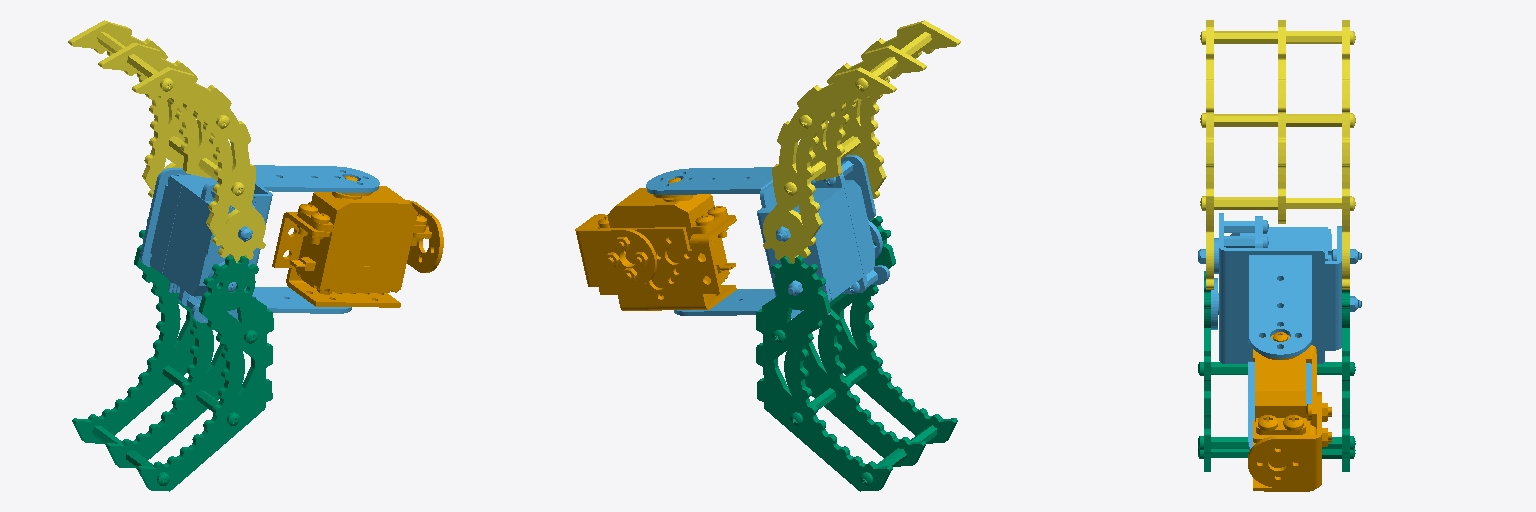
URDF robot description (robot_arm):
<?xml version='1.0' encoding='utf-8'?>
<robot name="robot_arm">
    <link name="arm_servo">
        <inertial>
            <origin xyz="-0.00520521192565182 0.01111926696798689 0.026115517882718323" rpy="0.0 -0.0 -1.3552527156068805e-20" />
            <mass value="0.3408048932817414" />
            <inertia ixx="0.00011993359739119503" iyy="7.024887882209169e-05" izz="8.655825815887205e-05" ixy="-3.309132080748022e-06" iyz="-1.9472936187881763e-06" ixz="7.298408347366714e-06" />
        </inertial>
        <visual name="arm_servo_visual">
            <origin xyz="0.0030139935324325065 0.009914743119193346 0.02727695015411946" rpy="3.139716897189504 1.301820786777512 -0.001812476256788611" />
            <geometry>
                <mesh filename="package://mastering_ros_robot_description_pkg/meshes/arm_servo.stl" scale="0.001 0.001 0.001" />
            </geometry>
        </visual>
        <collision name="arm_servo_collision">
            <origin xyz="0.0030139935324325065 0.009914743119193346 0.02727695015411946" rpy="3.139716897189504 1.301820786777512 -0.001812476256788611" />
            <geometry>
                <mesh filename="package://mastering_ros_robot_description_pkg/meshes/arm_servo.stl" scale="0.001 0.001 0.001" />
            </geometry>
        </collision>
    </link>
    <link name="craw_servo">
        <inertial>
            <origin xyz="0.009444604838704768 0.026285755863166095 0.008589752272914312" rpy="0.0 0.0 0.0" />
            <mass value="0.41080190821281926" />
            <inertia ixx="0.0001679426909527112" iyy="0.00020289327856063224" izz="0.00017534608932282878" ixy="-1.1289757719020539e-06" iyz="1.2103504651081886e-06" ixz="3.2419682804361014e-06" />
        </inertial>
        <visual name="craw_servo_visual">
            <origin xyz="0.0 0.0 0.0" rpy="0.0 0.0 0.0" />
            <geometry>
                <mesh filename="package://mastering_ros_robot_description_pkg/meshes/craw_servo.stl" scale="0.001 0.001 0.001" />
            </geometry>
        </visual>
        <collision name="craw_servo_collision">
            <origin xyz="0.0 0.0 0.0" rpy="0.0 0.0 0.0" />
            <geometry>
                <mesh filename="package://mastering_ros_robot_description_pkg/meshes/craw_servo.stl" scale="0.001 0.001 0.001" />
            </geometry>
        </collision>
    </link>
    <link name="craw2">
        <inertial>
            <origin xyz="-0.024981792043481922 0.01714963347253345 -0.03984953908574084" rpy="0.0 -0.0 0.0" />
            <mass value="0.14361180492178632" />
            <inertia ixx="0.0001339378063570633" iyy="0.00019038338694415784" izz="9.559028145015788e-05" ixy="1.006294335493931e-06" iyz="7.655613038930024e-06" ixz="1.233772048752626e-06" />
        </inertial>
        <visual name="craw2_visual">
            <origin xyz="-0.05570077229633004 0.027913294729427385 -0.05388566987136335" rpy="-2.1133992857034114 1.1995612836379621e-15 -0.025712251195341373" />
            <geometry>
                <mesh filename="package://mastering_ros_robot_description_pkg/meshes/craw2.stl" scale="0.001 0.001 0.001" />
            </geometry>
        </visual>
        <collision name="craw2_collision">
            <origin xyz="-0.05570077229633004 0.027913294729427385 -0.05388566987136335" rpy="-2.1133992857034114 1.1995612836379621e-15 -0.025712251195341373" />
            <geometry>
                <mesh filename="package://mastering_ros_robot_description_pkg/meshes/craw2.stl" scale="0.001 0.001 0.001" />
            </geometry>
        </collision>
    </link>
    <link name="craw1">
        <inertial>
            <origin xyz="0.024441565369785926 -0.00913097522316754 -0.04158637789819494" rpy="1.232595164407831e-32 -0.0 0.0" />
            <mass value="0.11972753556642697" />
            <inertia ixx="0.00010894945703551932" iyy="0.00016130262606403123" izz="6.756987996610689e-05" ixy="1.230357730894895e-06" iyz="-8.22047073541567e-06" ixz="-6.21735722582825e-07" />
        </inertial>
        <visual name="craw1_visual">
            <origin xyz="0.055278168123723326 -0.0054493529404387436 -0.08537684506545302" rpy="0.01900418331021532 -1.2189146982117131e-15 3.115880402394452" />
            <geometry>
                <mesh filename="package://mastering_ros_robot_description_pkg/meshes/craw1.stl" scale="0.001 0.001 0.001" />
            </geometry>
        </visual>
        <collision name="craw1_collision">
            <origin xyz="0.055278168123723326 -0.0054493529404387436 -0.08537684506545302" rpy="0.01900418331021532 -1.2189146982117131e-15 3.115880402394452" />
            <geometry>
                <mesh filename="package://mastering_ros_robot_description_pkg/meshes/craw1.stl" scale="0.001 0.001 0.001" />
            </geometry>
        </collision>
    </link>
    <joint name="craw_servo_arm_rotate" type="continuous">
        <origin xyz="0.07370177203355258 0.027012106587672592 0.019108029521807915" rpy="-2.8896459498351077 -0.2604171595355777 1.5046253281659332" />
        <parent link="craw_servo" />
        <child link="arm_servo" />
        <axis xyz="-0.26574348772883216 0.00048165418339958884 0.9640433183819926" />
    </joint>
    <joint name="craw_servo_craw_rotate1" type="revolute">
        <origin xyz="-1.0063170474694516e-09 4.566794622462566e-09 -3.752514814436836e-09" rpy="-1.8136686922816558 0.0249579455409521 -1.576979267341957" />
        <parent link="craw_servo" />
        <child link="craw2" />
        <axis xyz="-0.9996689999999999 0.02570899999999997 8.670746412531294e-19" />
        <limit lower="-1.919862" upper="-0.785398" effort="1000000" velocity="1000000" />
    </joint>
    <joint name="craw_servo_craw_rotate2" type="revolute">
        <origin xyz="0.00577000252251052 0.05099999607633027 0.02329607335334803" rpy="-1.8136686922816558 0.0249579455409521 -1.576979267341957" />
        <parent link="craw_servo" />
        <child link="craw1" />
        <axis xyz="-0.9996689999999999 0.02570899999999997 1.2849089934402476e-16" />
	<limit lower="0.261799" upper="1.396263" effort="1000000" velocity="1000000" />
	<mimic joint="craw_servo_craw_rotate1" multiplier="-1" offset="-0.523599" />
    </joint>
</robot>

--- What the picture shows (computed from the rendered views, not written in the file) ---
3 views of the same robot in one strip: view 1: azimuth 30°, elevation 25°; view 2: azimuth 150°, elevation 25°; view 3: azimuth 270°, elevation 25° (orthographic).
Robot: robot_arm — 4 links, 3 joints (2 revolute, 1 continuous); root link craw_servo; default pose: joints at zero except 2 at the middle of their limits (craw_servo_craw_rotate1 = -1.35, craw_servo_craw_rotate2 = 0.829).
Links seen in each view (by area): view 1: craw2, craw1, arm_servo, craw_servo; view 2: craw2, craw1, arm_servo, craw_servo; view 3: craw_servo, craw1, arm_servo, craw2.
Boxes of the visible links, x1,y1,x2,y2 form: craw2: (72,219,273,491); craw1: (68,20,265,262); arm_servo: (272,176,443,307); craw_servo: (140,165,379,322); craw2: (756,216,957,491); craw1: (763,20,960,263); arm_servo: (575,178,736,310); craw_servo: (646,155,889,318); craw_servo: (1198,213,1361,450); craw1: (1200,20,1355,289); arm_servo: (1248,326,1331,491); craw2: (1198,271,1355,471).
Bounding box of the posed robot: 0.1595 × 0.0644 × 0.1925 m (x, y, z).
Meshes: 4 distinct files referenced, 4 mesh visuals loaded (4 binary STL).